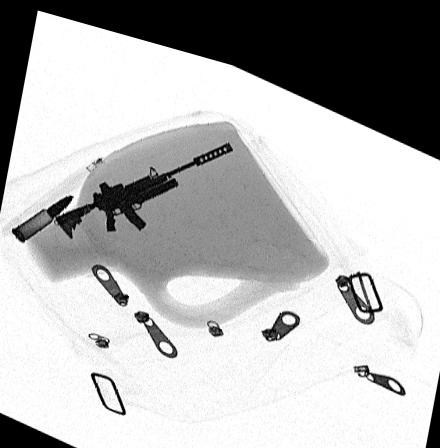Bullet: (9, 189, 71, 239)
Gun: (53, 128, 234, 234)
